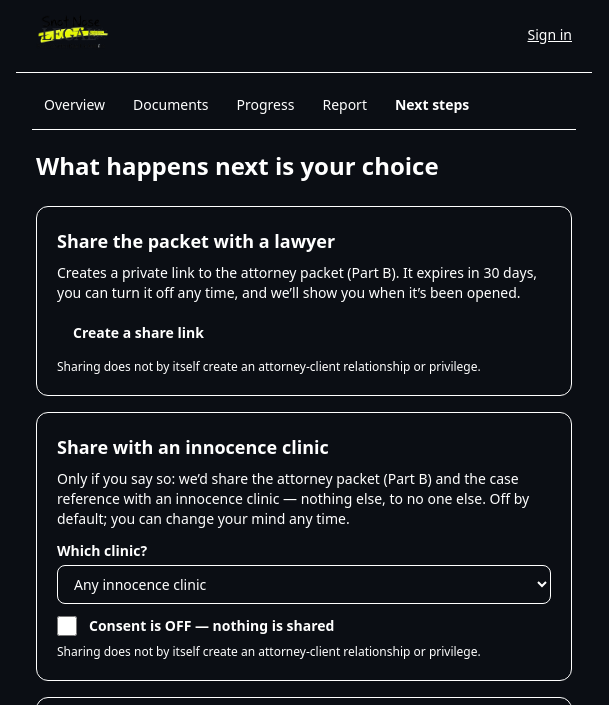
Test case: consent card with a clinic inbox › names the clinic on the consent, then sends the packet to its inbox; turning consent off removes the button
Select "Innocence Clinic of Bexar" in the dropdown with test id "clinic-picker" at coordinates (304, 584), box [57,565,551,604]
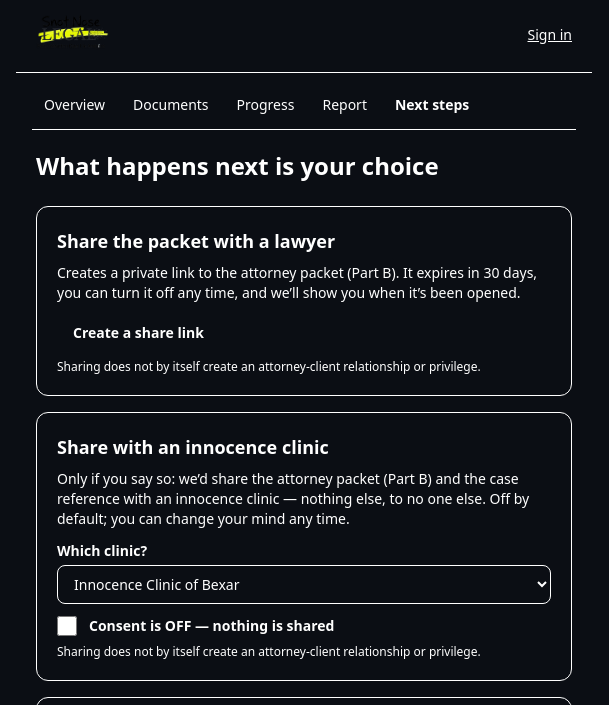
Click the checkbox at coordinates (67, 626), box [57,616,77,636]
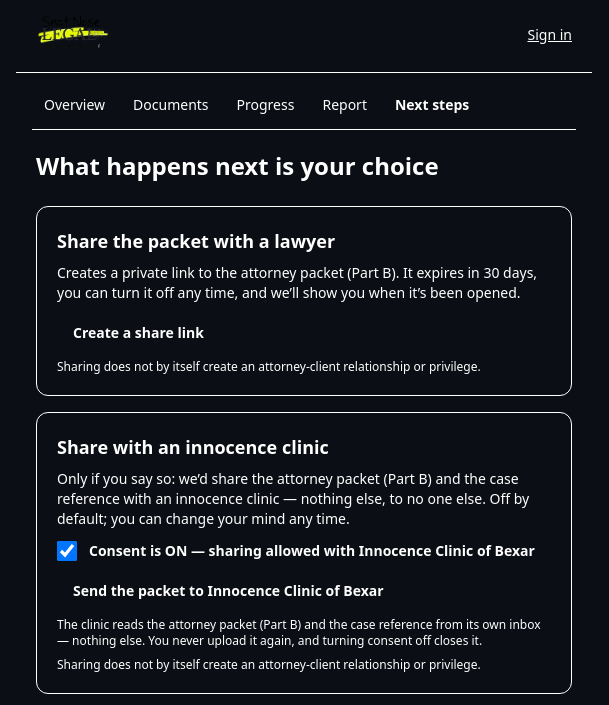
Expected: the text "Consent is ON — sharing allowed with Innocence Clinic of Bexar" is shown, [89,541,535,561]
Expected: the dropdown with test id "clinic-picker" is gone
Click the button with test id "packet-deliver" at coordinates (228, 591), box [57,573,400,609]
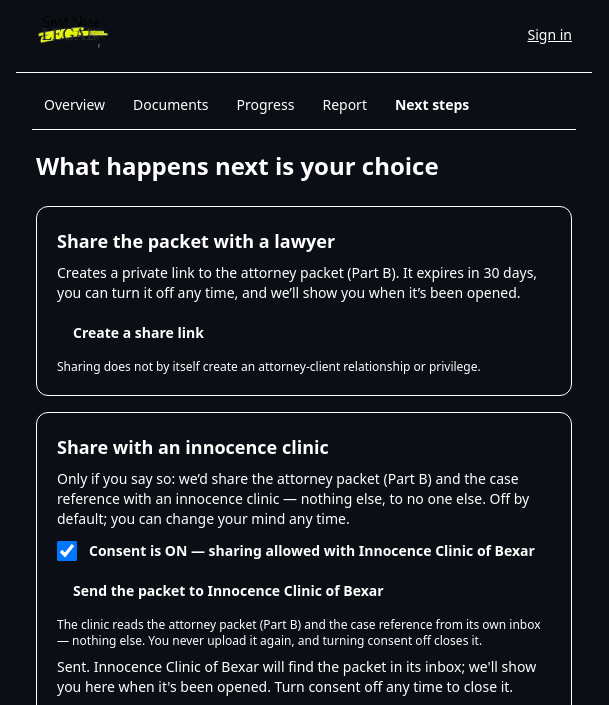
Expected: the text with test id "packet-notice" shows "Sent. Innocence Clinic of Bexar will find the packet in its inbox", [57,657,536,696]
Click the checkbox at coordinates (67, 551), box [57,541,77,561]
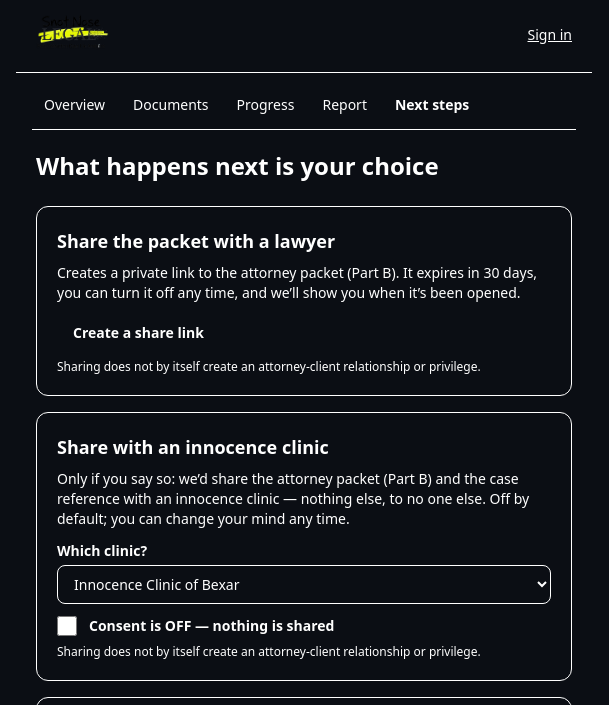
Expected: the text "Consent is OFF — nothing is shared" is shown, [89,616,334,636]
Expected: the button with test id "packet-deliver" is gone
